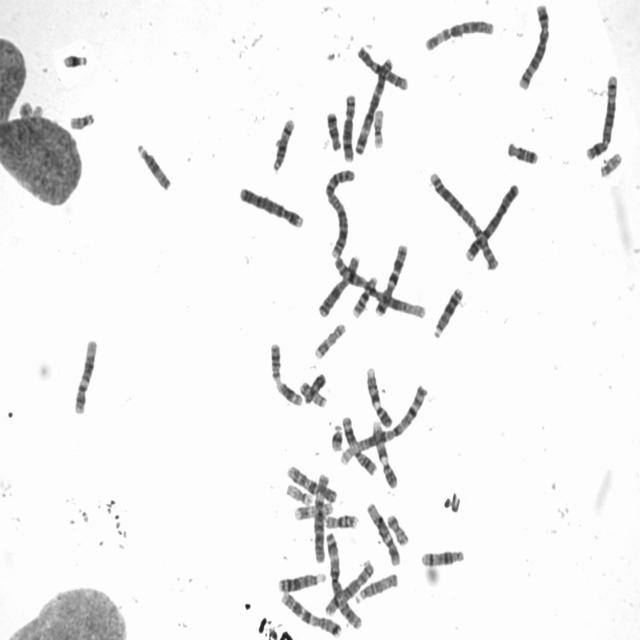A1: (337, 381, 429, 466), (331, 252, 427, 320)
A2: (425, 165, 501, 272), (321, 161, 357, 262)
A3: (351, 51, 395, 156), (322, 526, 364, 631)
B4: (462, 178, 521, 264), (236, 181, 306, 230)
B5: (582, 69, 620, 162), (514, 0, 552, 92)
C10: (354, 40, 411, 92), (283, 461, 339, 504)
C11: (266, 337, 304, 407), (339, 411, 378, 477)
C12: (363, 497, 402, 567), (70, 333, 99, 416)
C6: (421, 13, 495, 52), (310, 468, 332, 564)
C7: (278, 588, 342, 638), (371, 238, 409, 318)
C8: (322, 555, 376, 617), (339, 88, 357, 164)
C9: (368, 414, 399, 490), (362, 361, 393, 430)
D13: (430, 281, 465, 340), (274, 566, 327, 594)
D14: (269, 112, 296, 174), (417, 544, 466, 568)
D15: (133, 138, 172, 192), (352, 568, 400, 604)
E16: (348, 271, 378, 319), (320, 509, 360, 530)
E17: (310, 317, 348, 361), (291, 498, 334, 522)
E18: (503, 136, 540, 165), (323, 106, 343, 152)
F19: (283, 478, 314, 506), (370, 104, 386, 150)
F20: (296, 376, 328, 409), (383, 509, 410, 548)
G21: (59, 47, 89, 69), (328, 420, 344, 453)
G22: (596, 147, 624, 178), (66, 106, 96, 132)
X: (314, 250, 362, 318)
